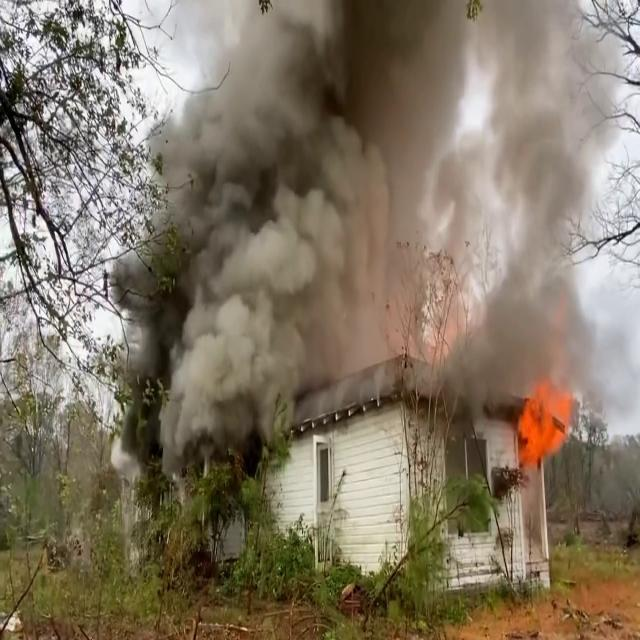Fire: (514, 372, 586, 466)
Smoke: (114, 1, 432, 425), (452, 1, 620, 387)
